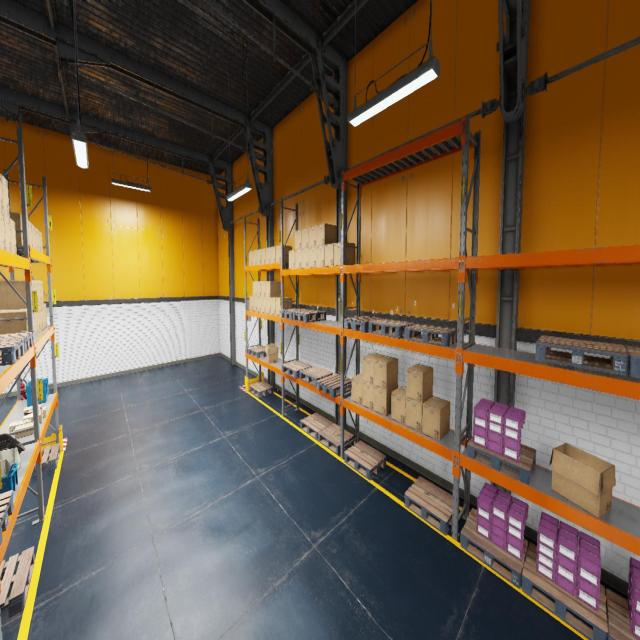box: (550, 443, 615, 518), (422, 396, 450, 441), (406, 364, 433, 403), (0, 280, 35, 310), (0, 309, 35, 337), (406, 396, 432, 432), (374, 356, 398, 390), (373, 384, 398, 416), (362, 352, 384, 384), (0, 310, 28, 334), (391, 386, 406, 425), (9, 212, 23, 246), (334, 242, 354, 265), (316, 223, 336, 246), (9, 418, 31, 435), (2, 174, 10, 218), (351, 372, 362, 404), (362, 381, 374, 410), (14, 422, 34, 438), (23, 407, 43, 423), (275, 245, 292, 262), (276, 298, 292, 316), (4, 214, 11, 252), (265, 281, 281, 297), (265, 343, 278, 362), (23, 404, 42, 416), (0, 212, 6, 250), (10, 218, 16, 254), (325, 243, 333, 266), (29, 407, 47, 417), (270, 297, 280, 315), (316, 244, 324, 266), (309, 225, 316, 247), (309, 247, 316, 267), (302, 227, 308, 248), (0, 172, 3, 213), (295, 230, 301, 250), (302, 248, 308, 268), (295, 249, 301, 268), (28, 220, 32, 248), (288, 250, 294, 268), (32, 223, 36, 249), (39, 306, 43, 332), (34, 280, 38, 306), (270, 246, 276, 263), (34, 226, 38, 251), (34, 312, 38, 337), (40, 281, 44, 305), (37, 229, 41, 252), (265, 247, 270, 264), (37, 307, 40, 334), (261, 297, 266, 313), (41, 304, 44, 330), (44, 303, 47, 328), (38, 281, 41, 306), (266, 298, 270, 314), (261, 281, 265, 297), (261, 248, 265, 264), (256, 249, 260, 265), (257, 297, 261, 312), (252, 296, 256, 311), (252, 250, 256, 265), (249, 296, 253, 310), (256, 282, 260, 296), (249, 250, 252, 266), (40, 231, 42, 253), (253, 282, 256, 296), (28, 220, 29, 243)
pallets: (522, 542, 608, 640), (460, 508, 528, 588), (535, 336, 629, 375), (404, 476, 460, 534), (467, 437, 536, 484), (0, 546, 35, 618), (606, 588, 640, 640), (344, 440, 386, 480), (405, 324, 457, 347), (317, 423, 353, 455), (31, 443, 60, 477), (300, 412, 333, 440), (369, 319, 416, 338), (316, 374, 352, 398), (0, 490, 14, 546), (0, 332, 33, 354), (299, 366, 333, 386), (344, 316, 385, 332), (0, 338, 24, 365), (282, 360, 312, 379), (625, 346, 640, 378), (249, 381, 273, 398), (292, 310, 326, 322), (280, 308, 310, 320), (248, 345, 266, 358)
